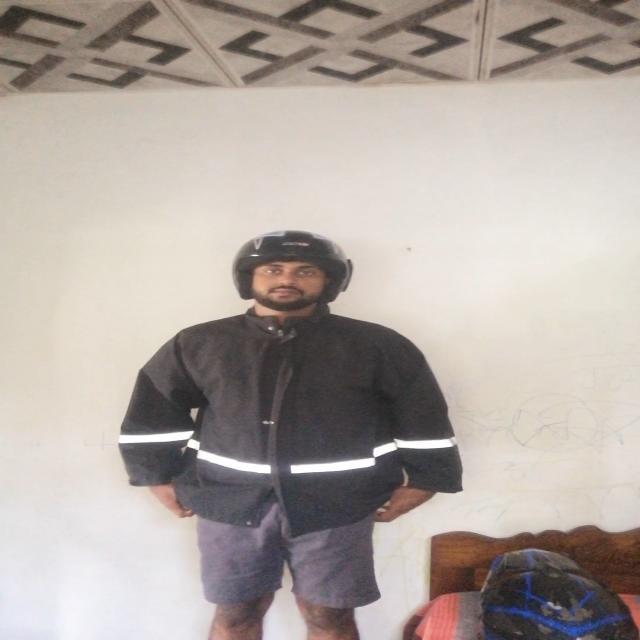Helmet_Wearer: (228, 220, 350, 333)
Jacket_Wearer: (124, 301, 467, 540)
Person: (98, 218, 489, 632)
